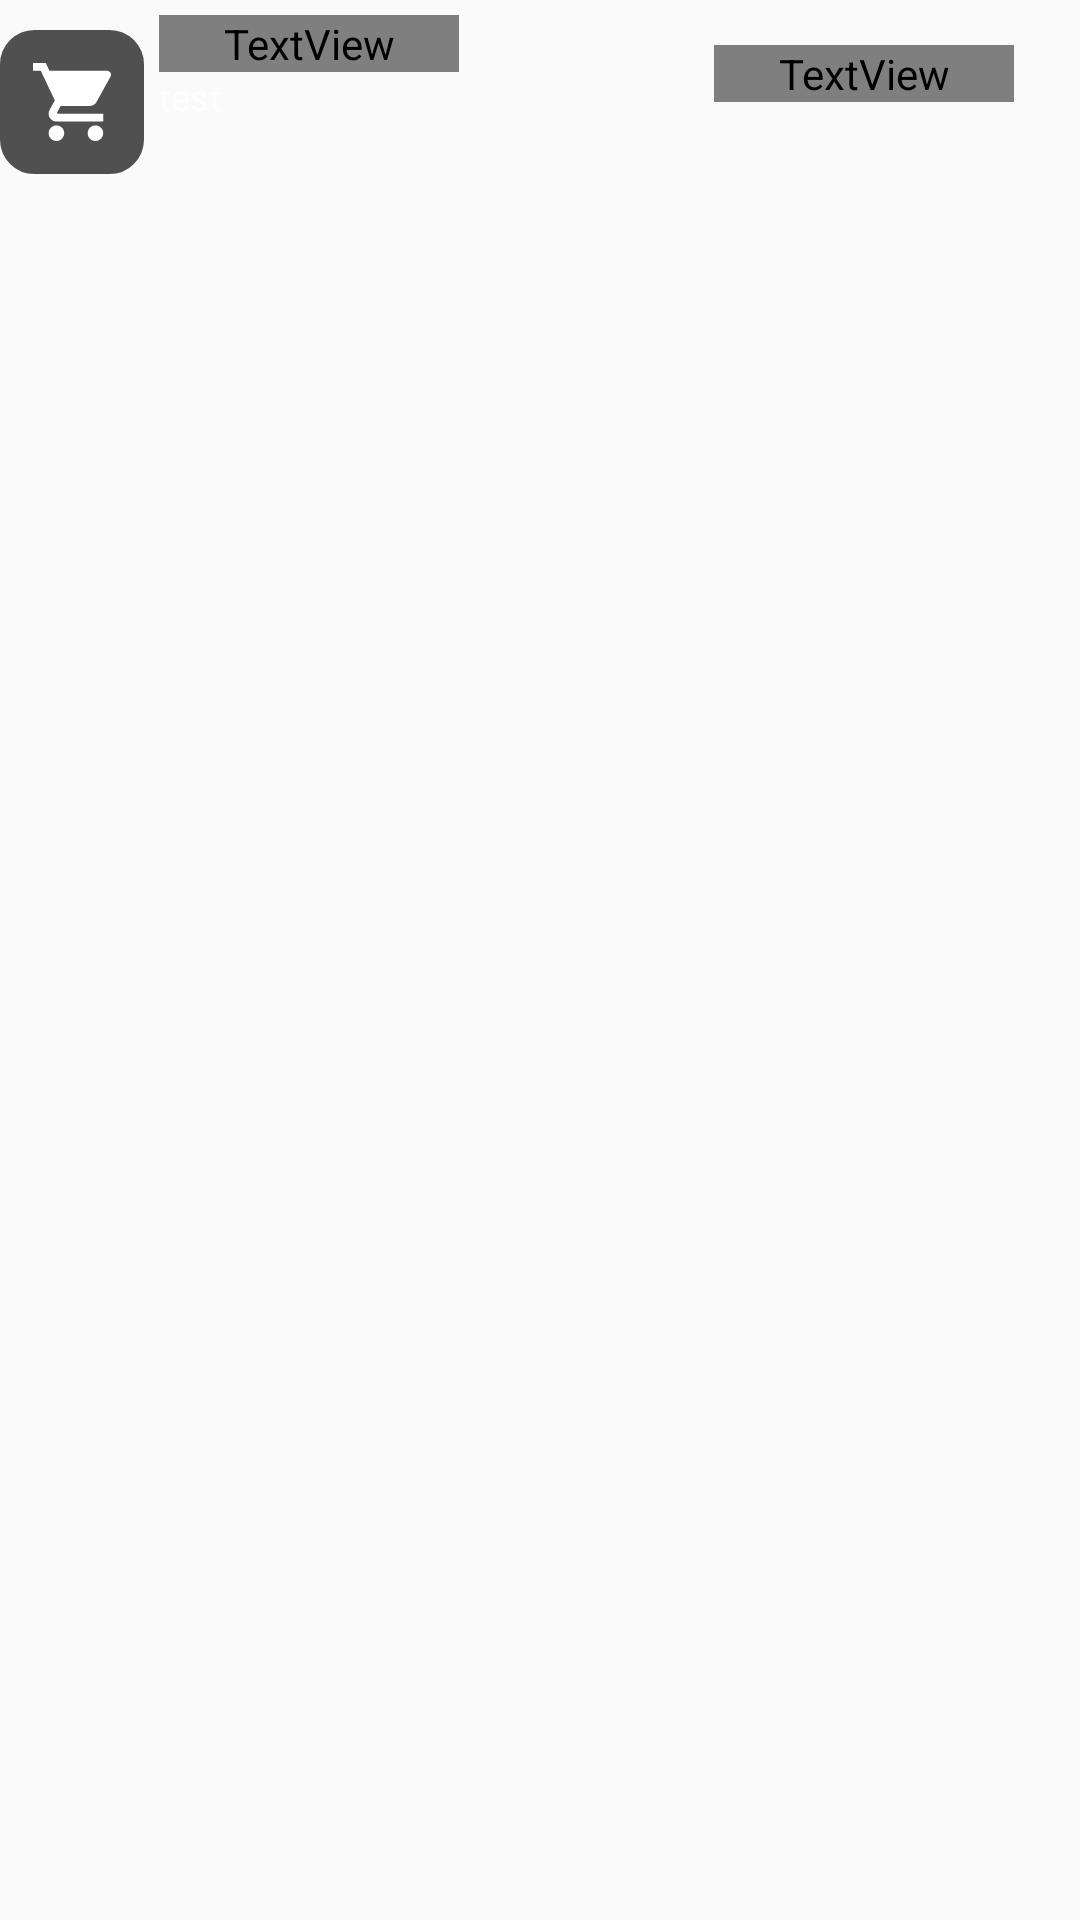

Where to tap for icons on this 1080 × 1920 app screen, as (x=x, y=y):
groceries: (x=72, y=102)
